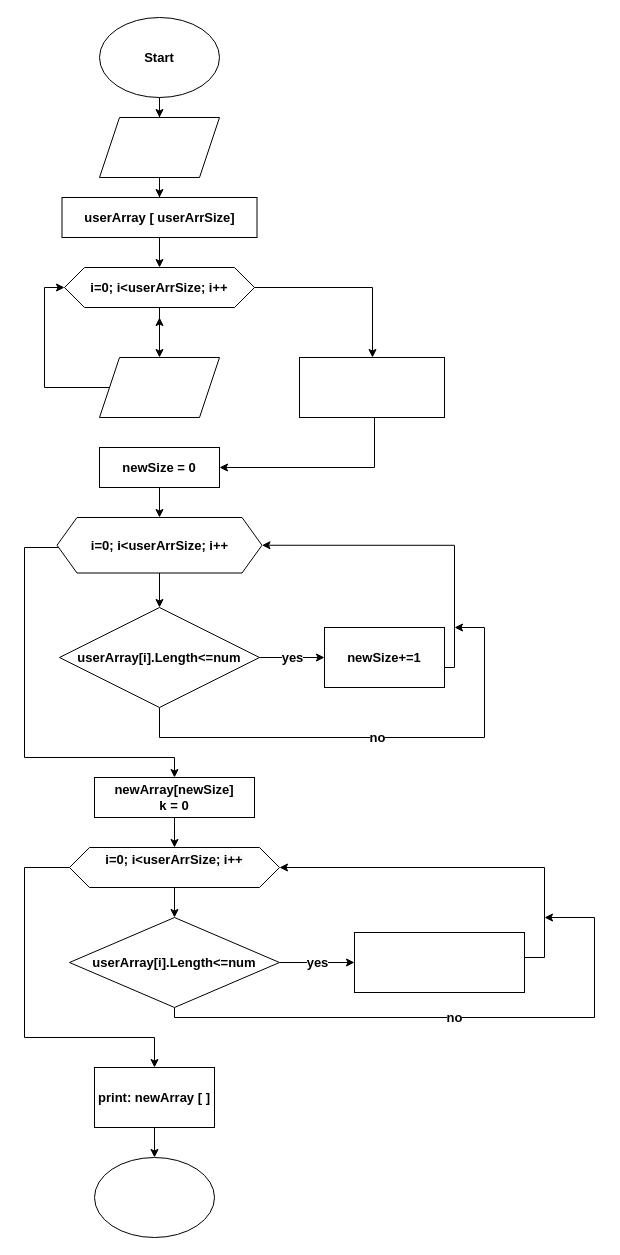
The diagram is 620 pixels wide and 1255 high, and some of its shapes have lost their labels. The shapes that lost their labels are listed below. From the top down, each one's centre as x and y in pixels, then its label:
the point at 159,147: userArrSize num
the point at 159,387: userArray [i]
the point at 371,387: print:userArray[ ]
the point at 439,962: newArray[k] = userArray[i] k++
the point at 154,1197: end
